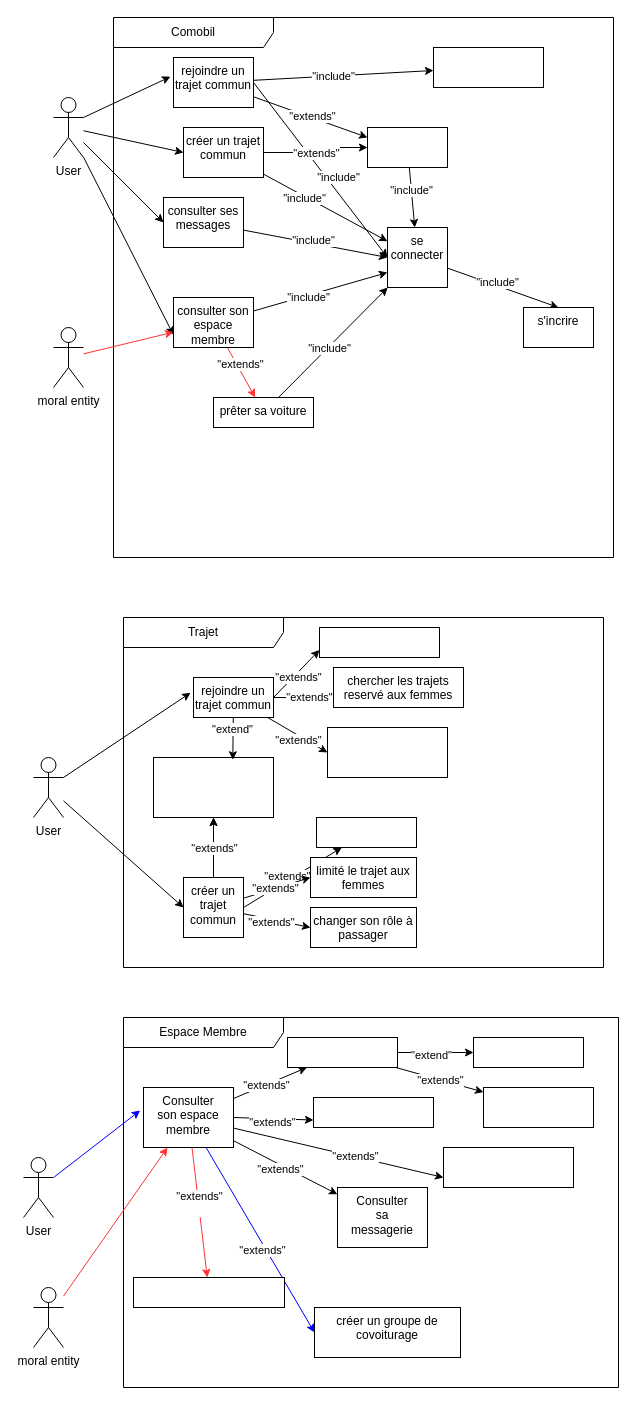
This 636x1405 diagram has some shape labels left out. The shapes that lost their labels are listed below. From the top down, each one's centre as x and y in pixels, then its label:
(x=488, y=67): trajet commun existant
(x=407, y=147): emprunter un véhicule
(x=379, y=642): quitter le trajet
(x=387, y=752): chercher les trajets qui ont besoin d'un conducteur
(x=213, y=787): communiquer avec les autres membres
(x=366, y=832): annuler le trajet
(x=342, y=1052): modifier son profil
(x=528, y=1052): ajouter sa voiture
(x=373, y=1112): supprimer son profil
(x=538, y=1107): changer ses préferences
(x=508, y=1167): consulter son historique de trajet
(x=208, y=1292): gérer sa flotte de véhicule
